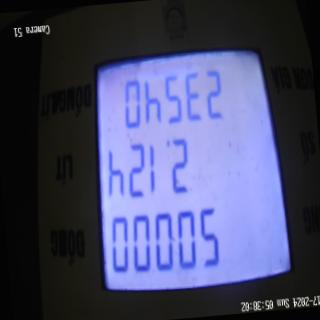screen: (76, 15, 301, 320)
